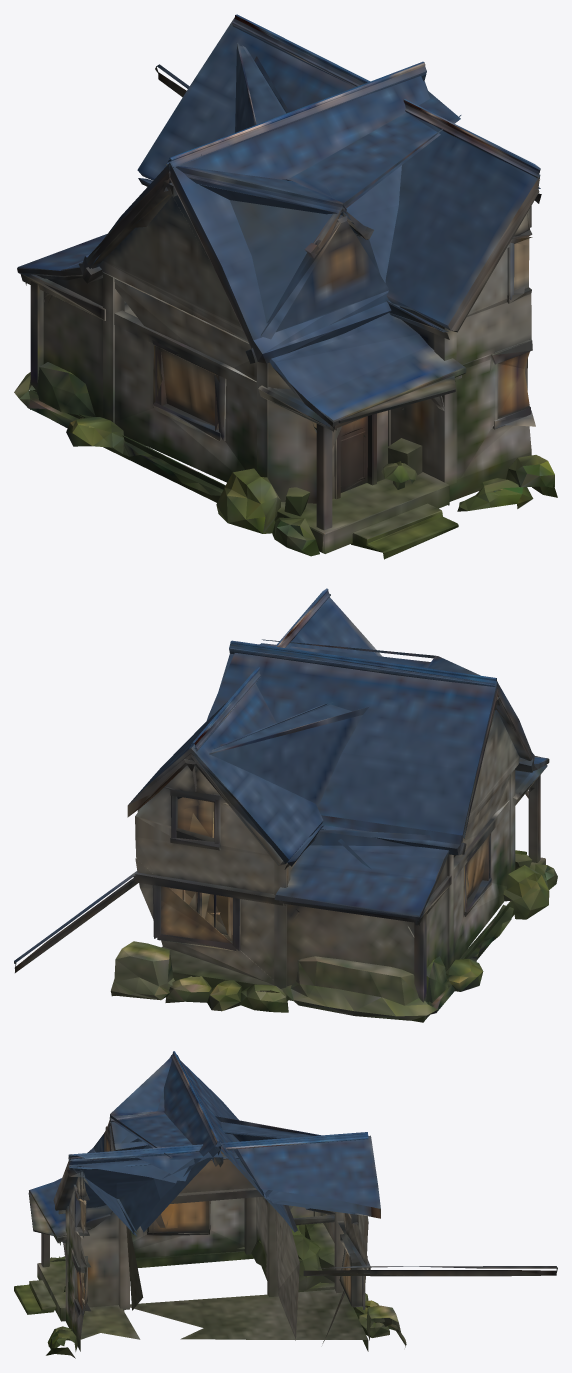
Rendered from farmhouse_game_lod2.glb.
The picture shows the model from 3 angles, top to bottom: view 1: azimuth 30°, elevation 25°; view 2: azimuth 150°, elevation 25°; view 3: azimuth 270°, elevation 25°; orthographic projection. The views are drawn at different scales.
Parts seen in each view (by area): view 1: geometry_0; view 2: geometry_0; view 3: geometry_0.
Boxes of the visible parts, x1,y1,x2,y2 form: geometry_0: [14, 14, 557, 559]; geometry_0: [14, 588, 557, 1022]; geometry_0: [14, 1051, 557, 1358].
Size of the model in its own units: 10.6 by 10.47 by 23.69.
1 material, 1 textured.
